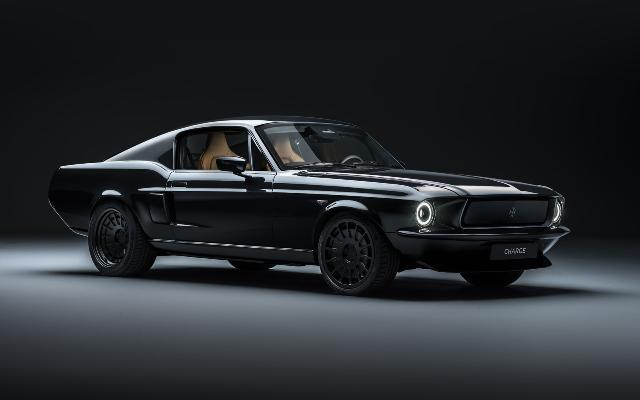ford-mustang: (46, 115, 572, 295)
